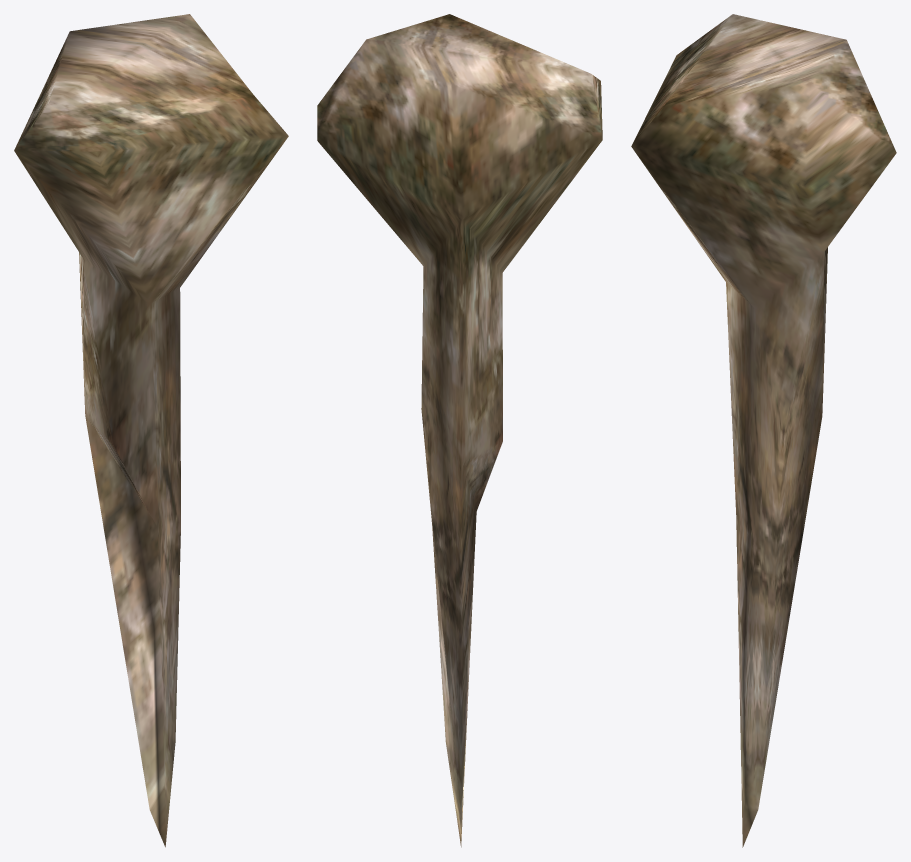
Rendered from thm_all_cave_stalagtite_a2_l1.fbx.
3 renders of one model, left to right at view 1: azimuth 30°, elevation 25°; view 2: azimuth 150°, elevation 25°; view 3: azimuth 270°, elevation 25°, orthographic. The views are drawn at different scales.
Visible parts, largest first — view 1: mesh_node; view 2: mesh_node; view 3: mesh_node.
Part boxes in pixels (x1,y1,x2,y2): mesh_node: (14,14,288,847); mesh_node: (317,14,602,847); mesh_node: (631,14,896,847).
Size of the model in its own units: 0.6292 by 1.89 by 0.5742.
